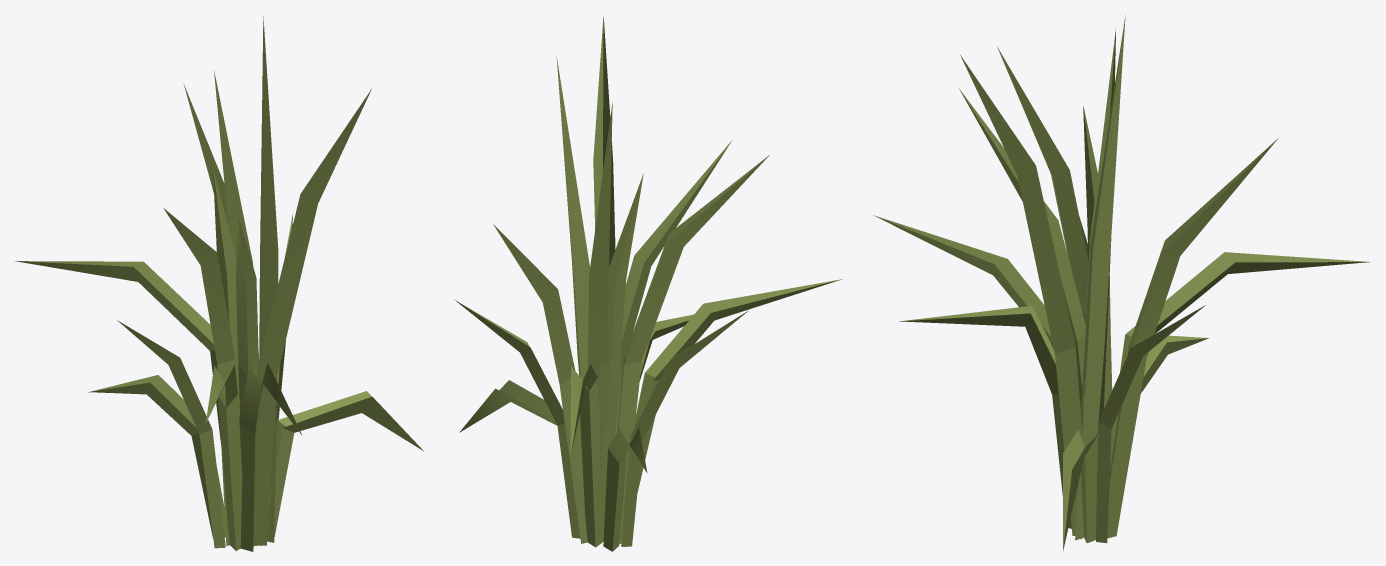
File: farmland2.fbx
The picture shows the model from 3 angles, left to right: view 1: azimuth 30°, elevation 25°; view 2: azimuth 150°, elevation 25°; view 3: azimuth 270°, elevation 25°; orthographic projection. The views are drawn at different scales.
Visible parts, largest first — view 1: polySurface8; view 2: polySurface8; view 3: polySurface8.
Part boxes in pixels (bbox=[...]): polySurface8: bbox=[15, 16, 423, 551]; polySurface8: bbox=[455, 15, 842, 551]; polySurface8: bbox=[873, 15, 1369, 550].
Size of the model in its own units: 41.62 by 65.16 by 55.29.
